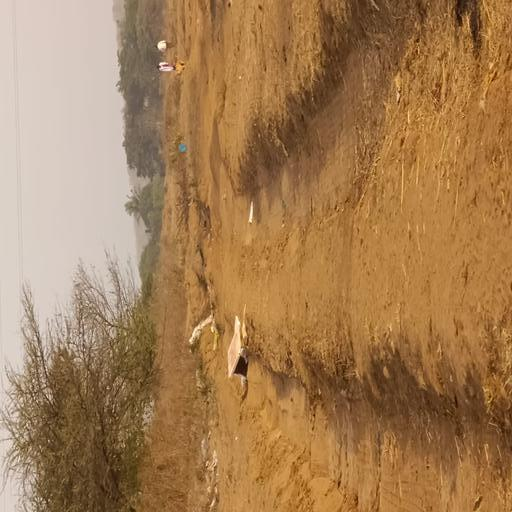vehicle_track: (219, 0, 512, 422)
